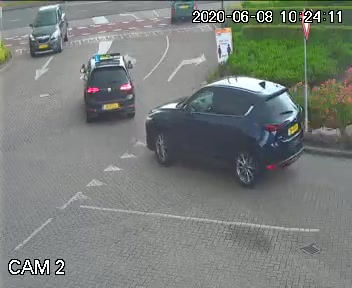car: (132, 70, 320, 200), (70, 42, 135, 128), (23, 5, 68, 61), (168, 0, 202, 26)
